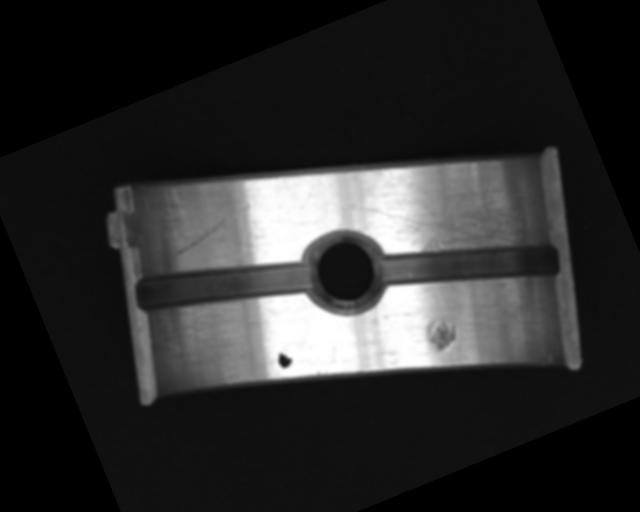blot: (273, 345, 295, 370)
bruise: (419, 311, 462, 355)
gap: (374, 195, 564, 334), (130, 218, 317, 353)
hole: (295, 221, 395, 322)
nick: (163, 201, 258, 259)
scratch: (366, 147, 553, 295)
